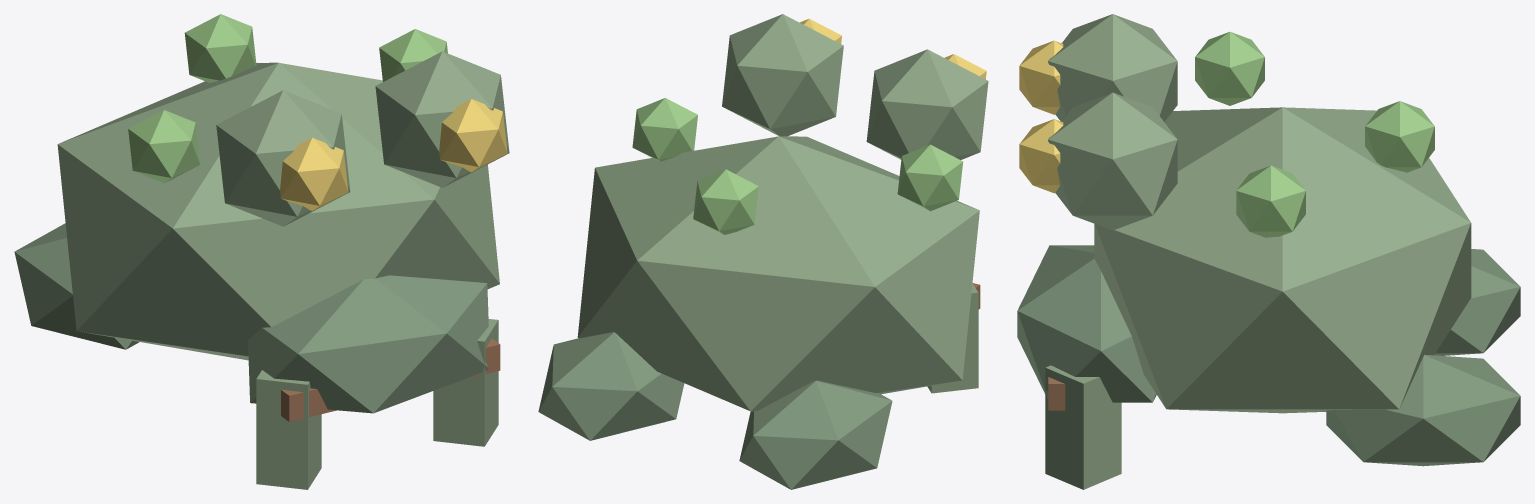
Rendered from npc_swamp_toad.glb.
3 views of the same model, side by side, from view 1: azimuth 30°, elevation 25°; view 2: azimuth 150°, elevation 25°; view 3: azimuth 270°, elevation 25° (orthographic). The views are drawn at different scales.
Visible parts, largest first — view 1: body, throat, eye_1, eye_0, front_leg_0, hind_leg_0, front_leg_1, wart_0, wart_2, pupil_0, pupil_1, wart_1 (+1 smaller); view 2: body, hind_leg_0, eye_1, hind_leg_1, eye_0, wart_0, wart_2, wart_1, front_leg_0; view 3: body, hind_leg_1, eye_1, throat, eye_0, front_leg_1, hind_leg_0, wart_0, wart_1, wart_2, pupil_0, pupil_1 (+1 smaller).
Part boxes in pixels (x1=…): body: x1=57, y1=62, x2=499, y2=360; throat: x1=248, y1=275, x2=488, y2=413; eye_1: x1=375, y1=51, x2=509, y2=187; eye_0: x1=216, y1=90, x2=350, y2=226; front_leg_0: x1=256, y1=370, x2=321, y2=489; hind_leg_0: x1=14, y1=223, x2=139, y2=349; front_leg_1: x1=433, y1=319, x2=498, y2=446; wart_0: x1=128, y1=110, x2=200, y2=183; wart_2: x1=184, y1=14, x2=256, y2=82; pupil_0: x1=280, y1=137, x2=348, y2=211; pupil_1: x1=439, y1=99, x2=507, y2=172; wart_1: x1=379, y1=29, x2=447, y2=81; body: x1=577, y1=136, x2=979, y2=411; hind_leg_0: x1=739, y1=380, x2=892, y2=489; eye_1: x1=722, y1=14, x2=843, y2=136; hind_leg_1: x1=538, y1=332, x2=684, y2=440; eye_0: x1=866, y1=49, x2=988, y2=159; wart_0: x1=897, y1=144, x2=963, y2=211; wart_2: x1=693, y1=169, x2=758, y2=234; wart_1: x1=632, y1=98, x2=697, y2=161; front_leg_0: x1=927, y1=283, x2=978, y2=393; body: x1=1094, y1=107, x2=1471, y2=413; hind_leg_1: x1=1326, y1=354, x2=1520, y2=466; eye_1: x1=1048, y1=92, x2=1177, y2=230; throat: x1=1017, y1=245, x2=1156, y2=402; eye_0: x1=1048, y1=14, x2=1177, y2=121; front_leg_1: x1=1045, y1=365, x2=1121, y2=489; hind_leg_0: x1=1434, y1=249, x2=1520, y2=355; wart_0: x1=1195, y1=32, x2=1264, y2=105; wart_1: x1=1236, y1=165, x2=1305, y2=237; wart_2: x1=1365, y1=101, x2=1434, y2=172; pupil_0: x1=1019, y1=40, x2=1063, y2=114; pupil_1: x1=1019, y1=119, x2=1063, y2=193.
Size of the model in its own units: 0.805 by 0.71 by 0.8588.
